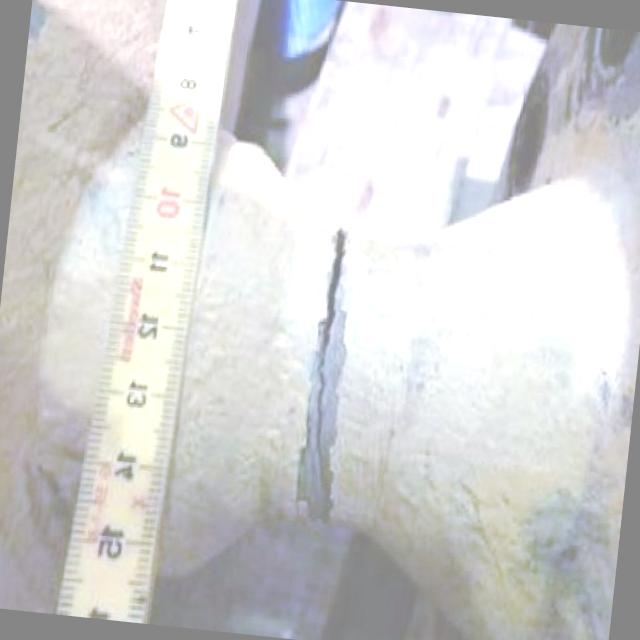crack: (306, 225, 348, 466)
